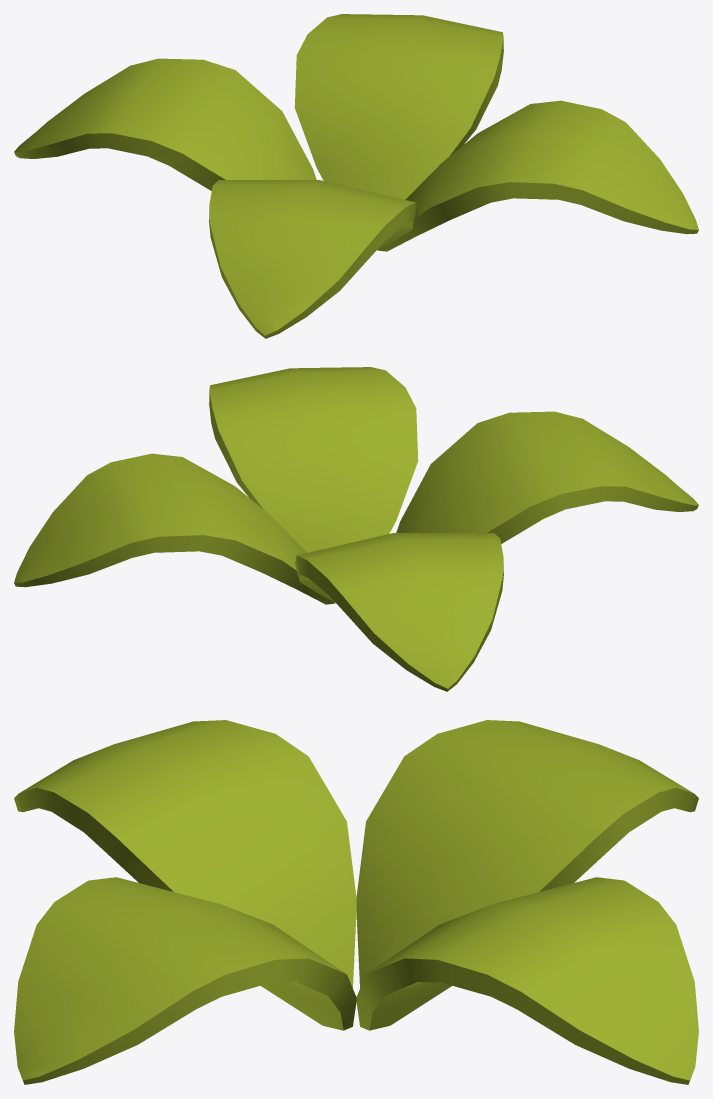
Rendered from Plant_Small.gltf.
The picture shows the model from 3 angles, top to bottom: view 1: azimuth 30°, elevation 25°; view 2: azimuth 150°, elevation 25°; view 3: azimuth 270°, elevation 25°; orthographic projection. The views are drawn at different scales.
Parts seen in each view (by area): view 1: Plant_Small; view 2: Plant_Small; view 3: Plant_Small.
Boxes of the visible parts, x1=… form: Plant_Small: x1=14, y1=14, x2=698, y2=338; Plant_Small: x1=14, y1=367, x2=698, y2=691; Plant_Small: x1=14, y1=720, x2=698, y2=1084.
Bounding box in the file's own units: 1.03 × 0.2867 × 1.03.
